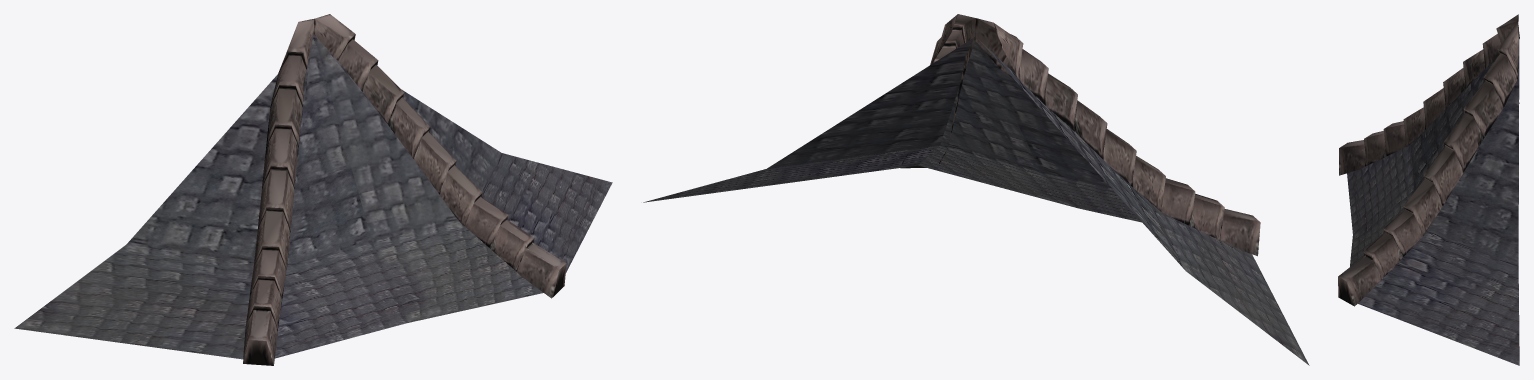
The model's file is RoofBowWindow1x2A.fbx.
3 views of the same model, side by side, from view 1: azimuth 30°, elevation 25°; view 2: azimuth 150°, elevation 25°; view 3: azimuth 270°, elevation 25° (orthographic). The views are drawn at different scales.
Parts seen in each view (by area): view 1: RoofBowWindow1x2A; view 2: RoofBowWindow1x2A; view 3: RoofBowWindow1x2A.
Part boxes in pixels (<box>): RoofBowWindow1x2A: <box>14,14,612,365</box>; RoofBowWindow1x2A: <box>643,14,1309,365</box>; RoofBowWindow1x2A: <box>1338,14,1519,365</box>.
Size of the model in its own units: 507 by 195 by 148.
